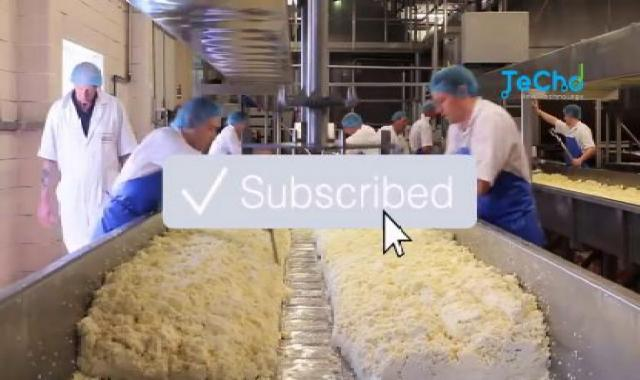hairnet: (426, 68, 485, 109), (164, 95, 213, 135), (62, 62, 109, 98), (550, 103, 586, 129), (336, 110, 361, 132), (229, 110, 250, 132), (388, 108, 408, 130), (388, 108, 400, 127)
